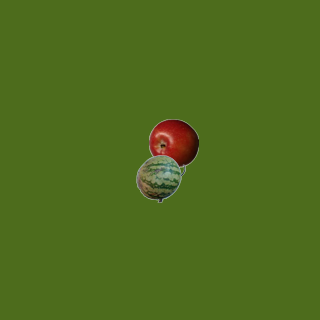Apple Braeburn: (148, 118, 198, 168)
Watermelon: (135, 153, 185, 203)
